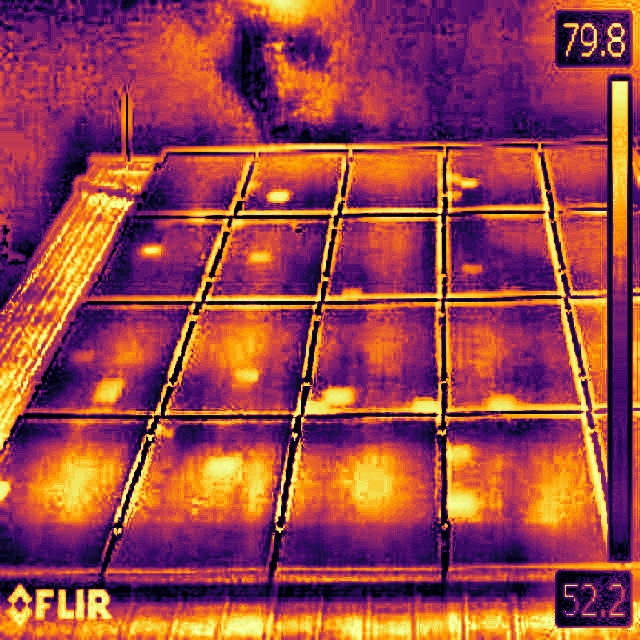Moderate-High: (449, 495, 472, 511), (328, 389, 349, 402), (417, 398, 435, 411)
